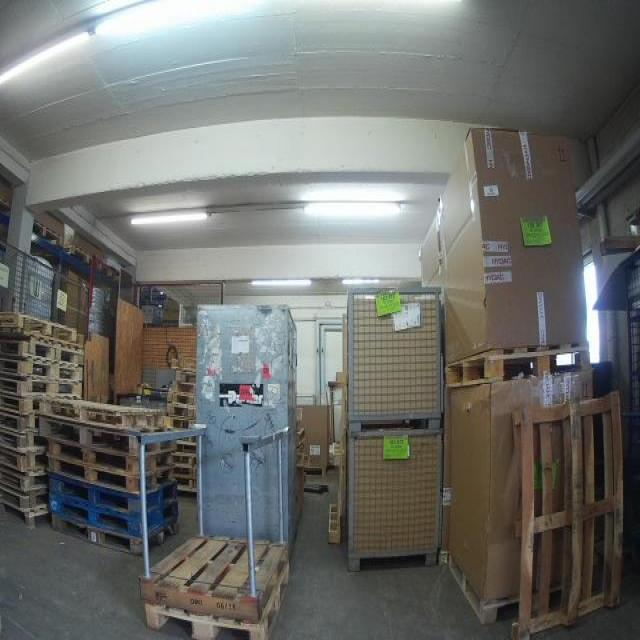pallet: (508, 388, 624, 640), (140, 537, 292, 625), (140, 560, 296, 640), (448, 547, 582, 629), (444, 339, 592, 393), (47, 473, 178, 520), (39, 415, 179, 457), (46, 452, 177, 496), (49, 493, 179, 533), (52, 516, 180, 556), (48, 437, 176, 477), (324, 371, 348, 551), (40, 397, 166, 431), (0, 312, 79, 345), (1, 338, 85, 367), (1, 373, 81, 399), (1, 358, 81, 383), (0, 463, 52, 492), (1, 500, 52, 529), (2, 481, 50, 511), (1, 445, 48, 474), (0, 426, 50, 451), (3, 409, 41, 435), (1, 394, 42, 415), (171, 464, 200, 482), (172, 475, 199, 494), (173, 451, 201, 469), (168, 416, 201, 430), (167, 392, 201, 405), (170, 380, 199, 394), (176, 441, 200, 457), (169, 404, 196, 418), (176, 370, 198, 386), (182, 358, 197, 370)
stillage: (347, 286, 443, 431), (347, 429, 443, 573)
